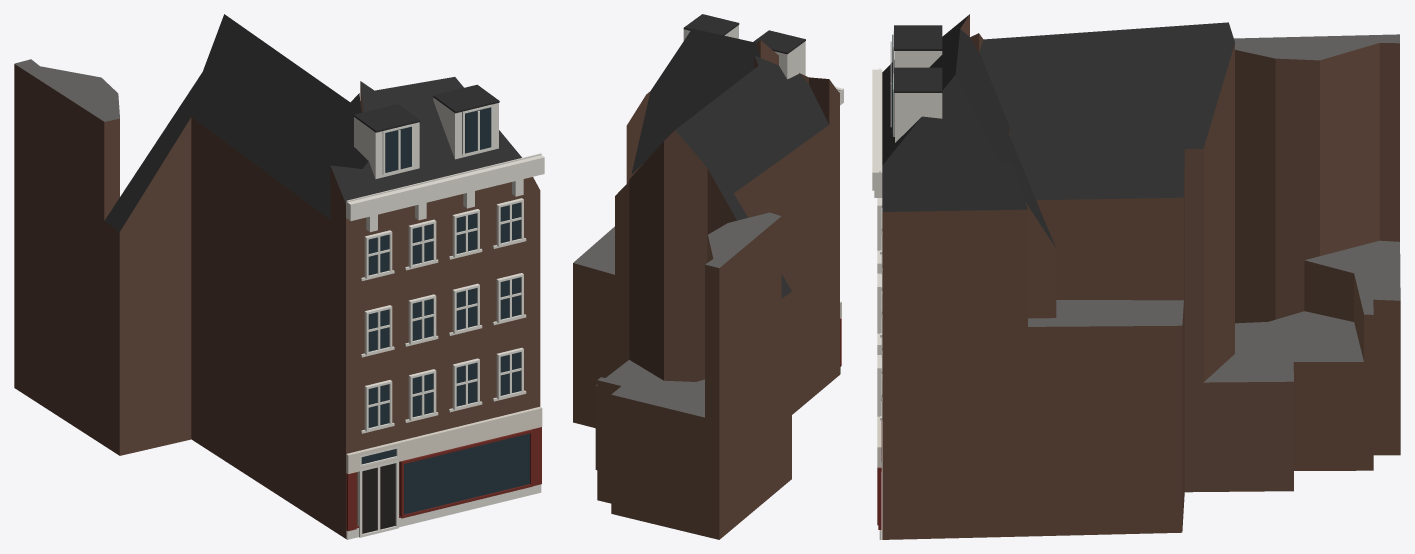
3 views of the same model, side by side, from view 1: azimuth 30°, elevation 25°; view 2: azimuth 150°, elevation 25°; view 3: azimuth 270°, elevation 25° (orthographic). The views are drawn at different scales.
Visible parts, largest first — view 1: spec-0363100012178199; view 2: spec-0363100012178199; view 3: spec-0363100012178199.
Boxes of the visible parts, x1,y1,x2,y2 form: spec-0363100012178199: [14, 14, 544, 539]; spec-0363100012178199: [573, 14, 843, 539]; spec-0363100012178199: [872, 14, 1400, 539].
Bounding box in the file's own units: 9.97 × 13.74 × 14.55.
